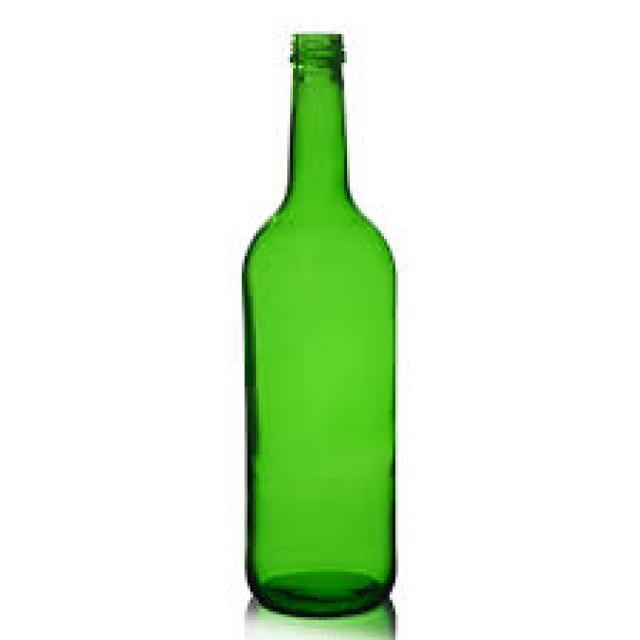Glass: (240, 34, 399, 620)
